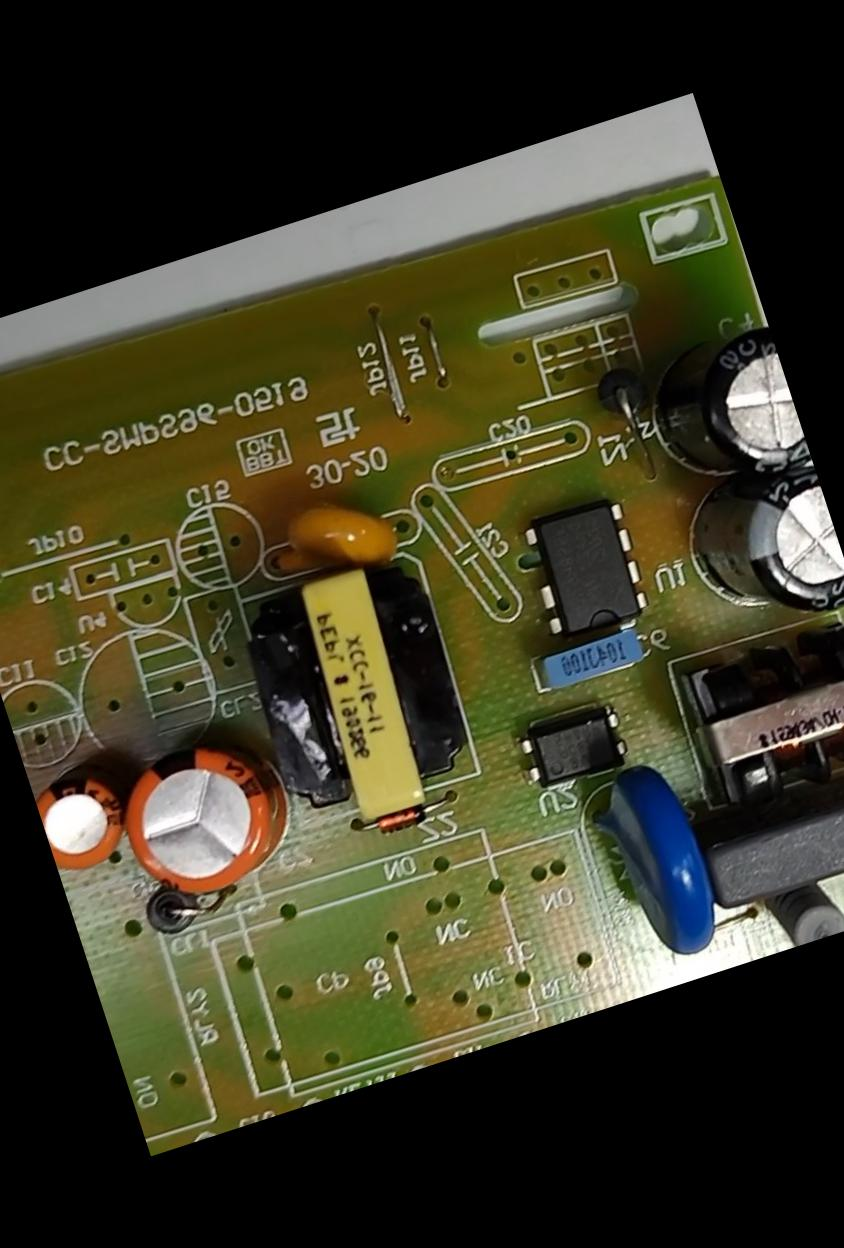Cap1: (101, 715, 310, 926)
Cap2: (29, 754, 144, 888)
Cap3: (666, 446, 843, 656)
Cap4: (619, 309, 814, 514)
MOSFET: (506, 488, 664, 660)
Mov: (572, 741, 747, 978)
Resistor: (747, 863, 843, 956)
Transformer: (218, 534, 500, 850), (667, 604, 843, 834)
